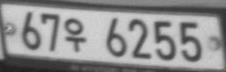2: (127, 18, 151, 59)
5: (153, 20, 177, 61), (179, 21, 202, 63)
6: (105, 17, 127, 58), (20, 11, 42, 51)
7: (42, 13, 60, 51)
우: (63, 17, 86, 53)
